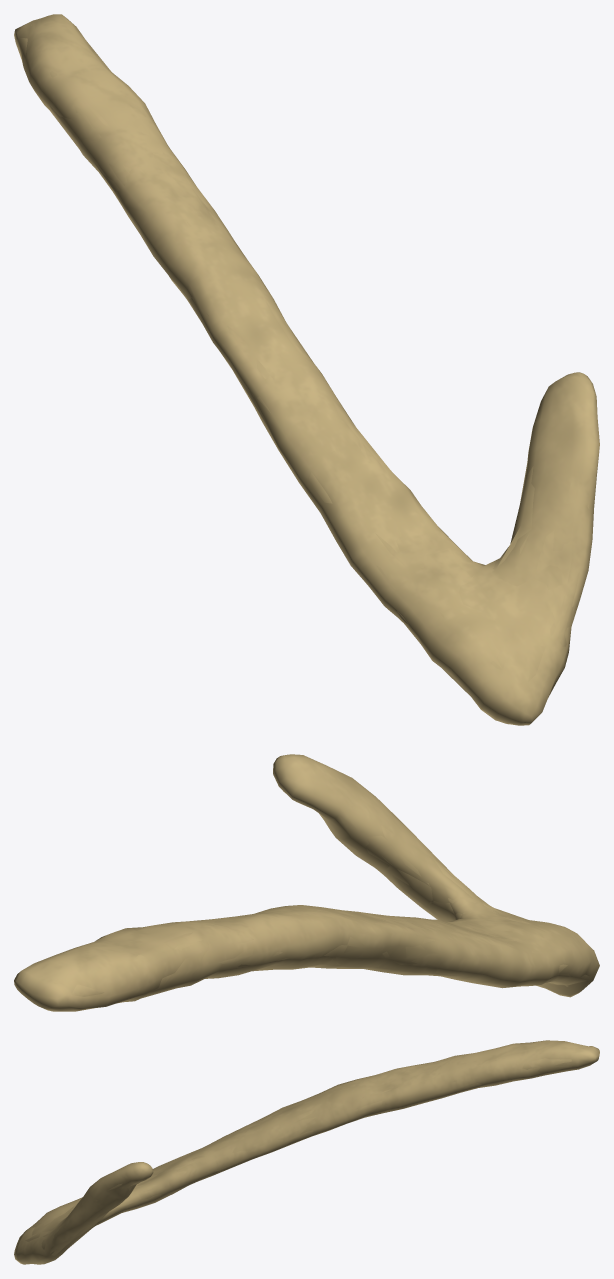
File: Pancreas.fbx
The picture shows the model from 3 angles, top to bottom: view 1: azimuth 30°, elevation 25°; view 2: azimuth 150°, elevation 25°; view 3: azimuth 270°, elevation 25°; orthographic projection. The views are drawn at different scales.
Parts seen in each view (by area): view 1: Pancreas, Pancreas low; view 2: Pancreas, Pancreas low; view 3: Pancreas, Pancreas low.
Part boxes in pixels (<box>): Pancreas: <box>14,14,599,725</box>; Pancreas low: <box>19,24,589,695</box>; Pancreas: <box>14,754,599,1011</box>; Pancreas low: <box>54,813,589,1003</box>; Pancreas: <box>14,1040,599,1264</box>; Pancreas low: <box>25,1042,572,1255</box>.
Size of the model in its own units: 7.49 by 10.94 by 26.91.
1 material, 1 textured.
